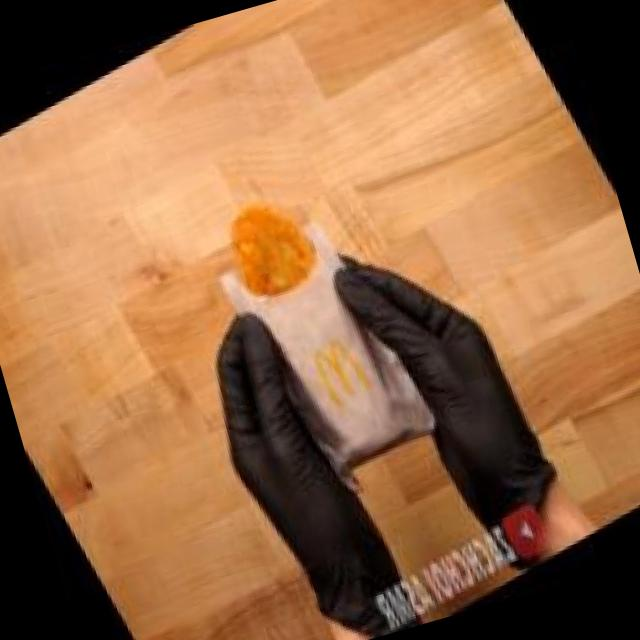Hashbrown: (190, 162, 354, 344)
